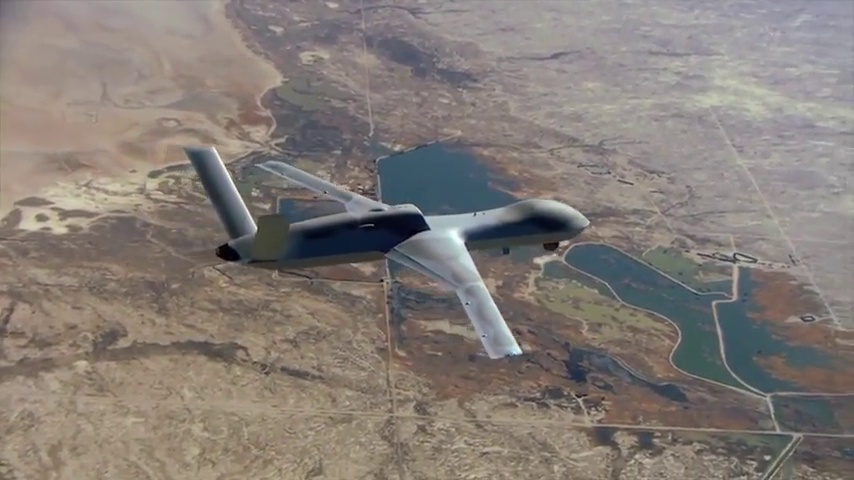military drone: (182, 145, 591, 359)
